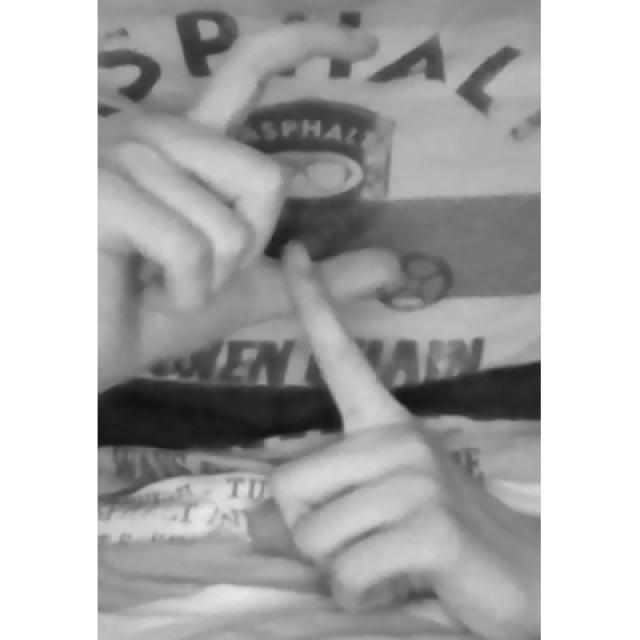C_: (96, 12, 539, 640)
